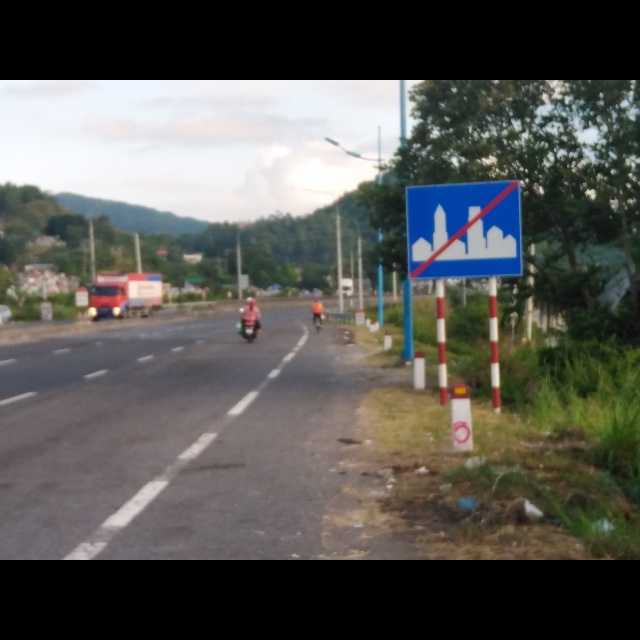Hết khu đông dân cư: (406, 178, 524, 281)
